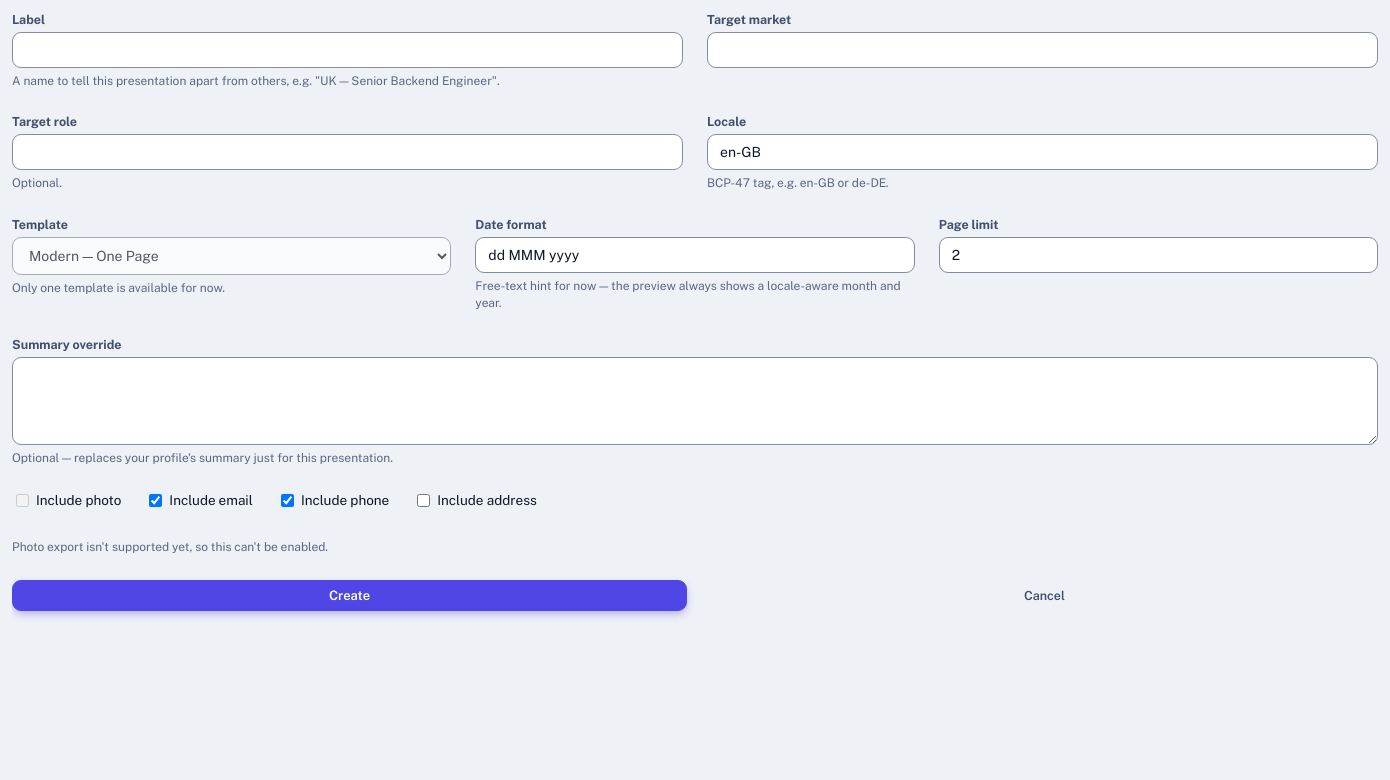
CVPresentationForm — create › shows a server-side rejection instead of crashing when creation is refused
This screenshot has width=1390, height=780.
Type "US — Backend Engineer" into the field labelled "Label". click: (348, 50)
box: [12,32,683,68]
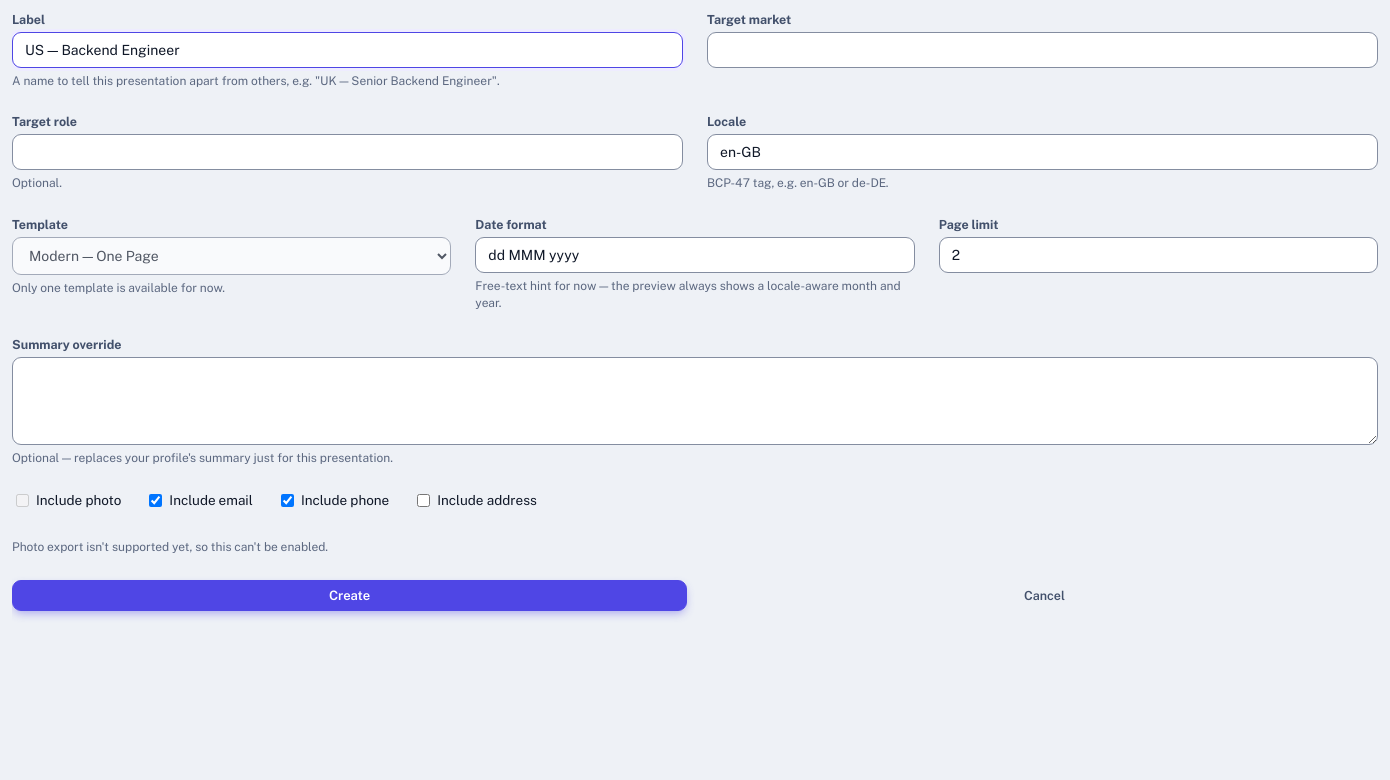
Type "United States" into the field labelled "Target market". click: (1042, 50)
box: [707,32,1378,68]
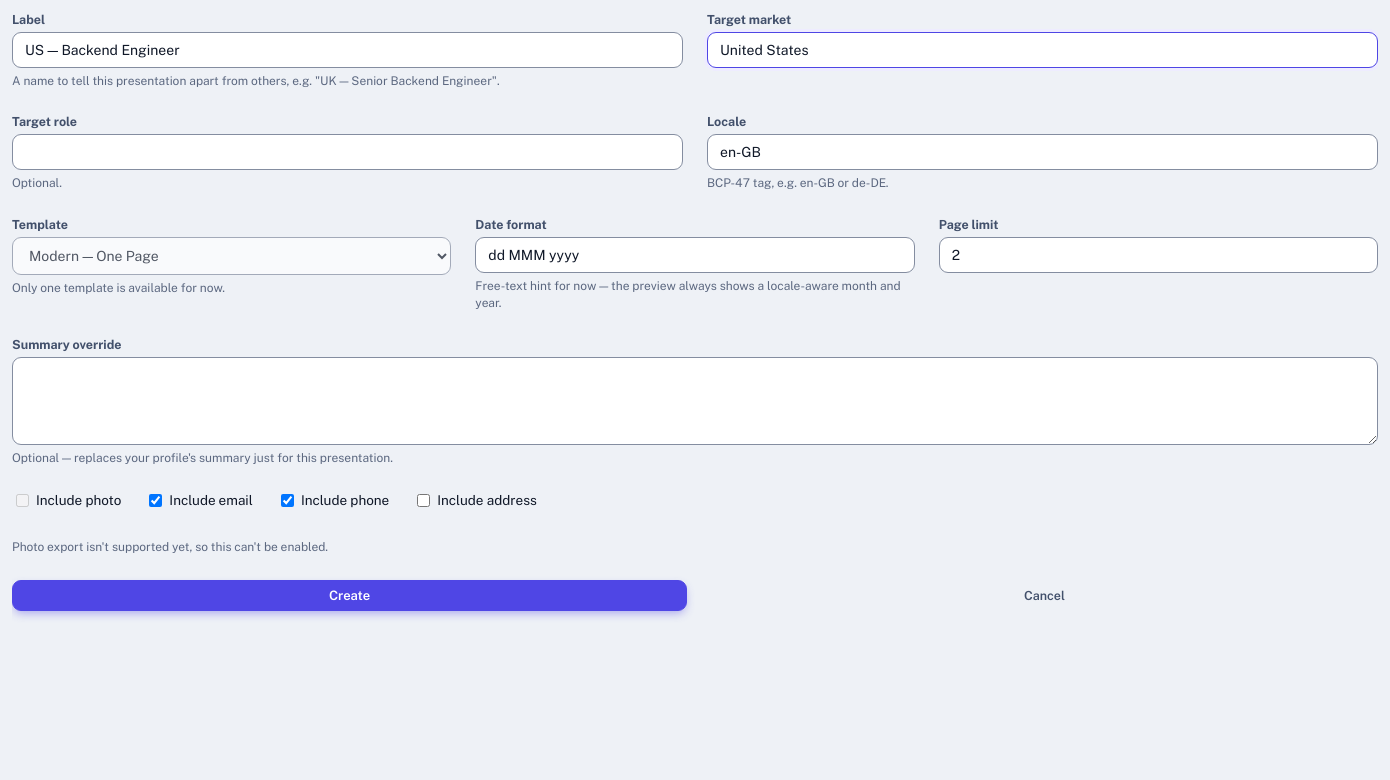
Click the button "Create". click: (350, 596)
box: [12,580,687,611]
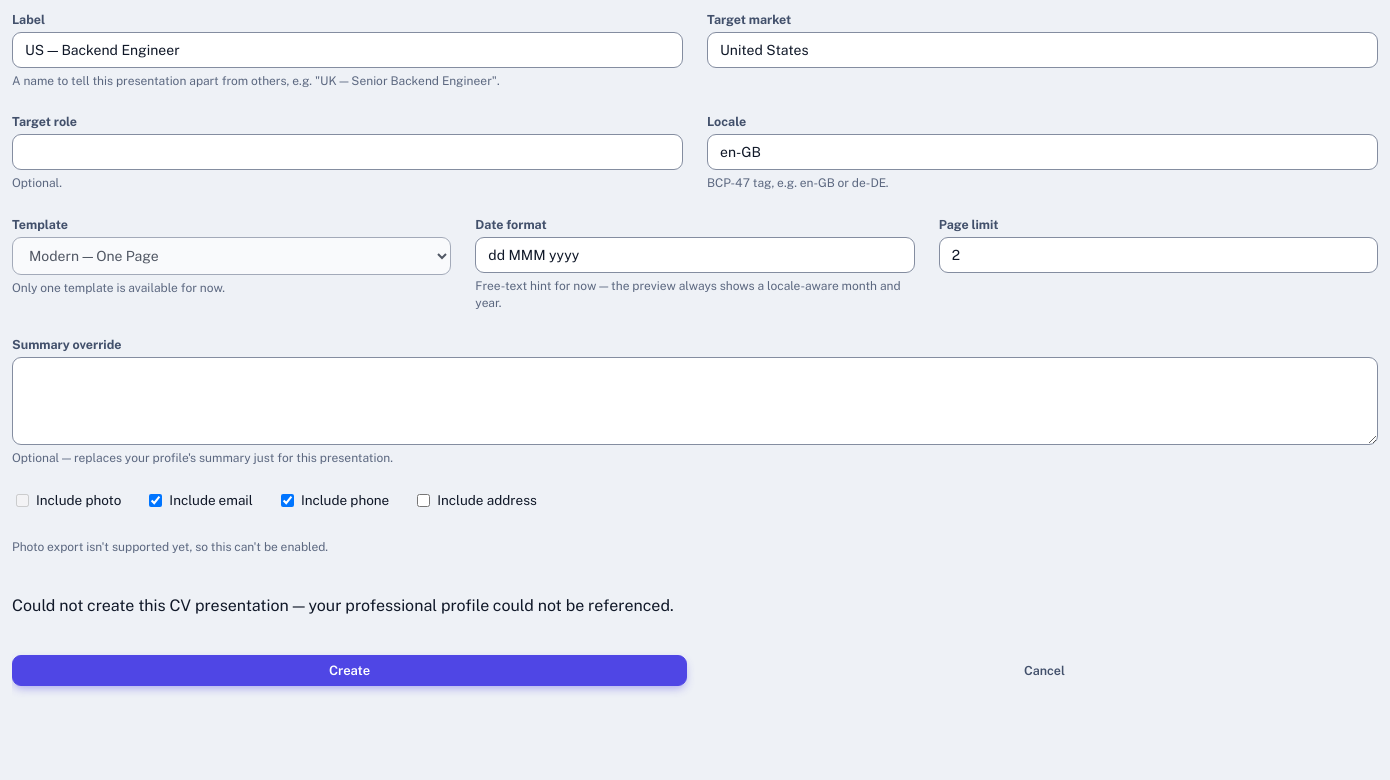
Expected: the message is shown, [12,596,674,615]
